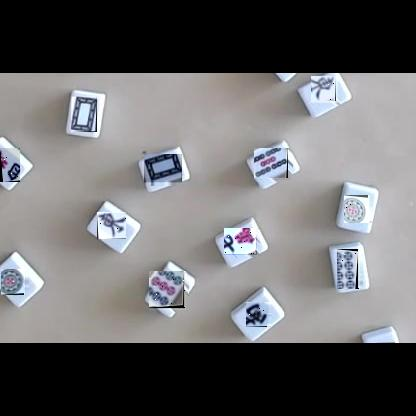1p: (345, 195, 373, 223), (2, 269, 29, 295)
1z: (312, 77, 341, 106), (97, 212, 126, 239)
2z: (247, 302, 272, 327), (374, 342, 395, 343)
4m: (0, 148, 20, 182)
5s: (255, 149, 293, 183)
5z: (144, 155, 182, 186), (71, 96, 97, 132)
7m: (225, 229, 260, 258)
8p: (338, 249, 363, 289)
9p: (150, 272, 189, 313)
